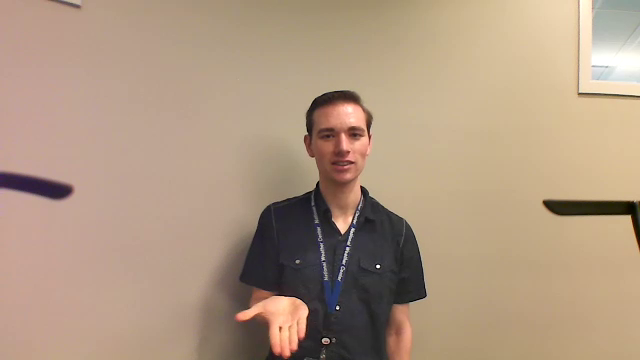land: (230, 291, 320, 358)
